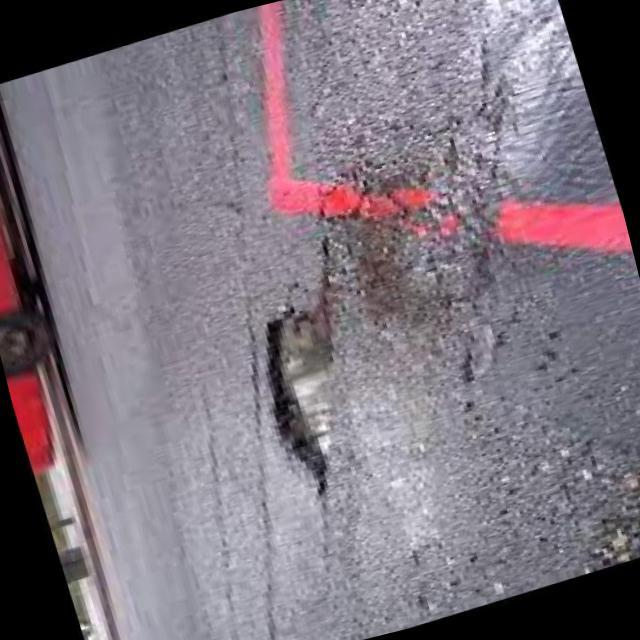pothole: (225, 280, 372, 498)
